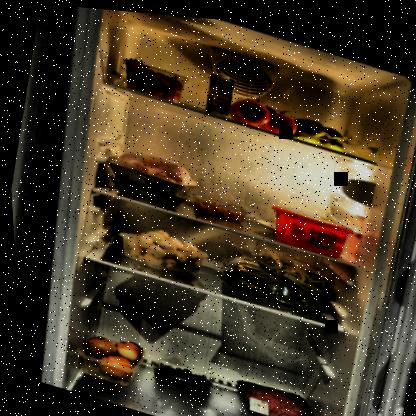banana: (294, 111, 350, 148)
blueberries: (141, 353, 210, 400)
butter: (263, 194, 354, 257)
chicken: (103, 139, 202, 199)
green_beans: (224, 231, 345, 298)
ground_beef: (226, 370, 324, 415)
heavy_cream: (199, 65, 238, 116)
mushrooms: (109, 213, 210, 277)
onion: (75, 326, 140, 383)
shrimp: (189, 190, 250, 223)
spinach: (219, 248, 330, 315)
strawberries: (115, 51, 192, 101)
tomato: (223, 84, 301, 136)
